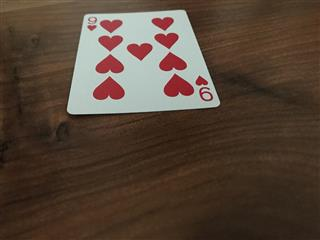NineOfHearts: (65, 8, 220, 114)
